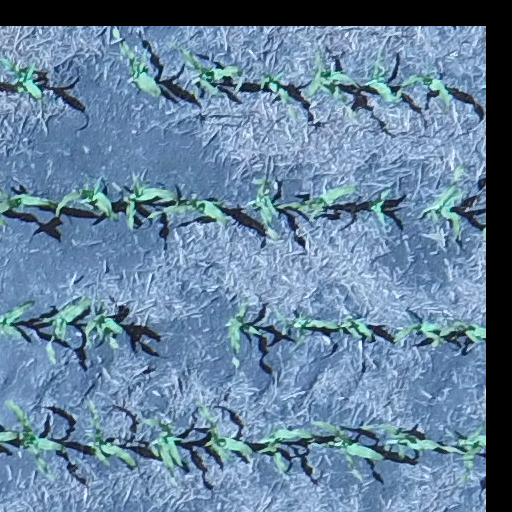planta: (311, 421, 384, 483), (7, 401, 69, 469), (416, 164, 470, 238), (360, 424, 467, 461), (33, 297, 90, 365), (196, 404, 253, 466), (112, 27, 163, 96), (121, 174, 180, 231), (134, 418, 194, 474), (177, 46, 241, 97), (85, 402, 135, 467), (274, 183, 355, 221), (53, 176, 118, 219), (275, 308, 340, 350), (257, 427, 318, 471), (306, 50, 359, 98), (147, 198, 227, 223), (226, 300, 263, 350), (398, 73, 450, 108), (366, 55, 404, 102), (252, 177, 280, 239), (82, 309, 124, 349), (390, 321, 443, 346), (456, 424, 485, 468), (257, 71, 293, 102), (367, 188, 392, 226), (440, 322, 485, 342), (341, 317, 374, 340)
